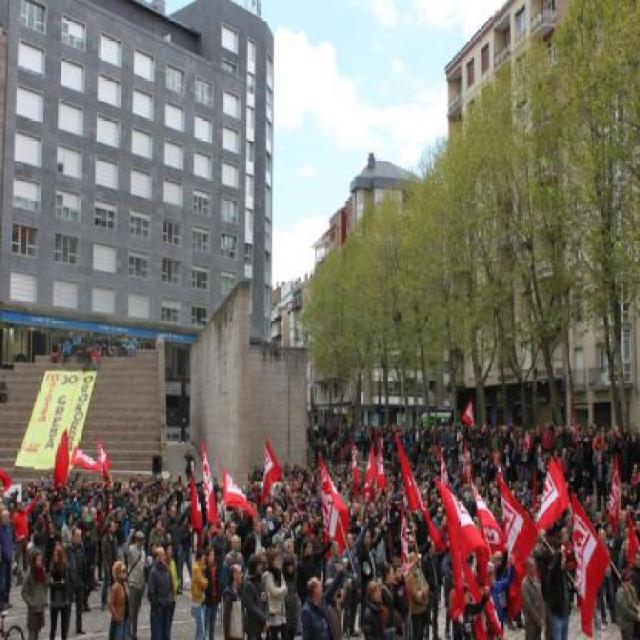Person: (300, 561, 348, 639), (546, 540, 579, 638), (340, 516, 366, 636), (63, 328, 137, 369), (421, 536, 450, 638), (235, 552, 268, 638), (22, 548, 52, 637), (122, 526, 146, 637), (148, 547, 174, 638), (294, 535, 334, 594), (66, 526, 88, 632), (519, 556, 547, 638), (49, 541, 73, 634), (106, 556, 132, 639), (263, 548, 286, 640), (452, 584, 491, 638), (188, 548, 210, 640), (488, 554, 514, 628), (398, 552, 420, 636), (221, 562, 244, 638), (202, 547, 222, 631), (279, 555, 299, 637), (614, 570, 638, 636), (0, 510, 15, 613), (380, 562, 400, 632), (326, 576, 349, 636), (362, 578, 384, 639), (626, 549, 639, 588)
